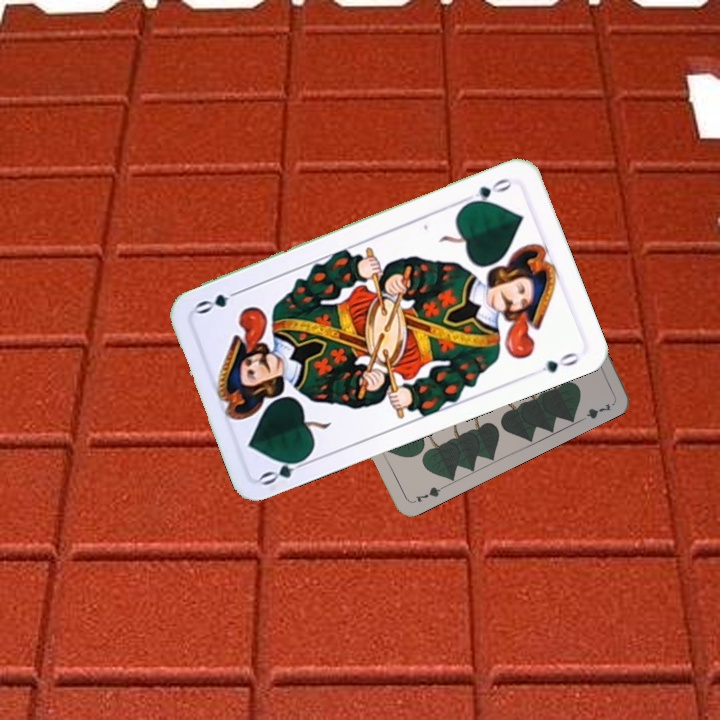G7: (408, 482, 446, 506)
GO: (256, 451, 314, 488), (459, 174, 516, 208)
